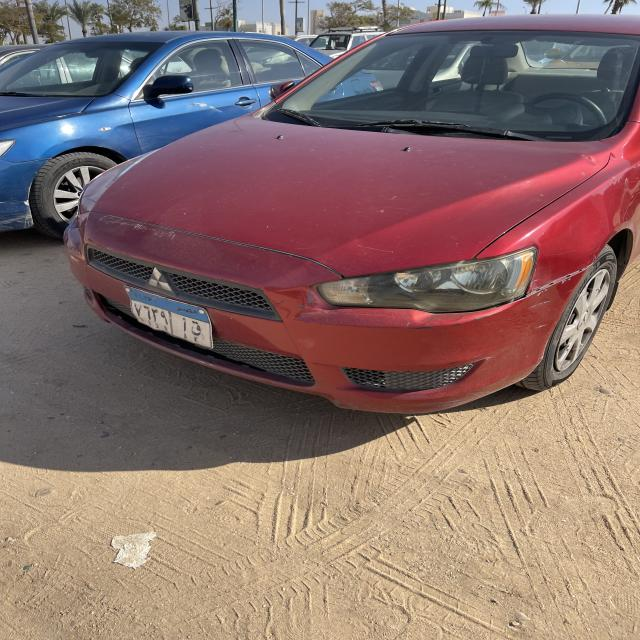License Plate: (124, 285, 213, 349)
